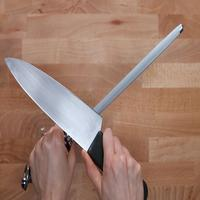knife: (21, 20, 187, 179), (1, 55, 149, 188)
